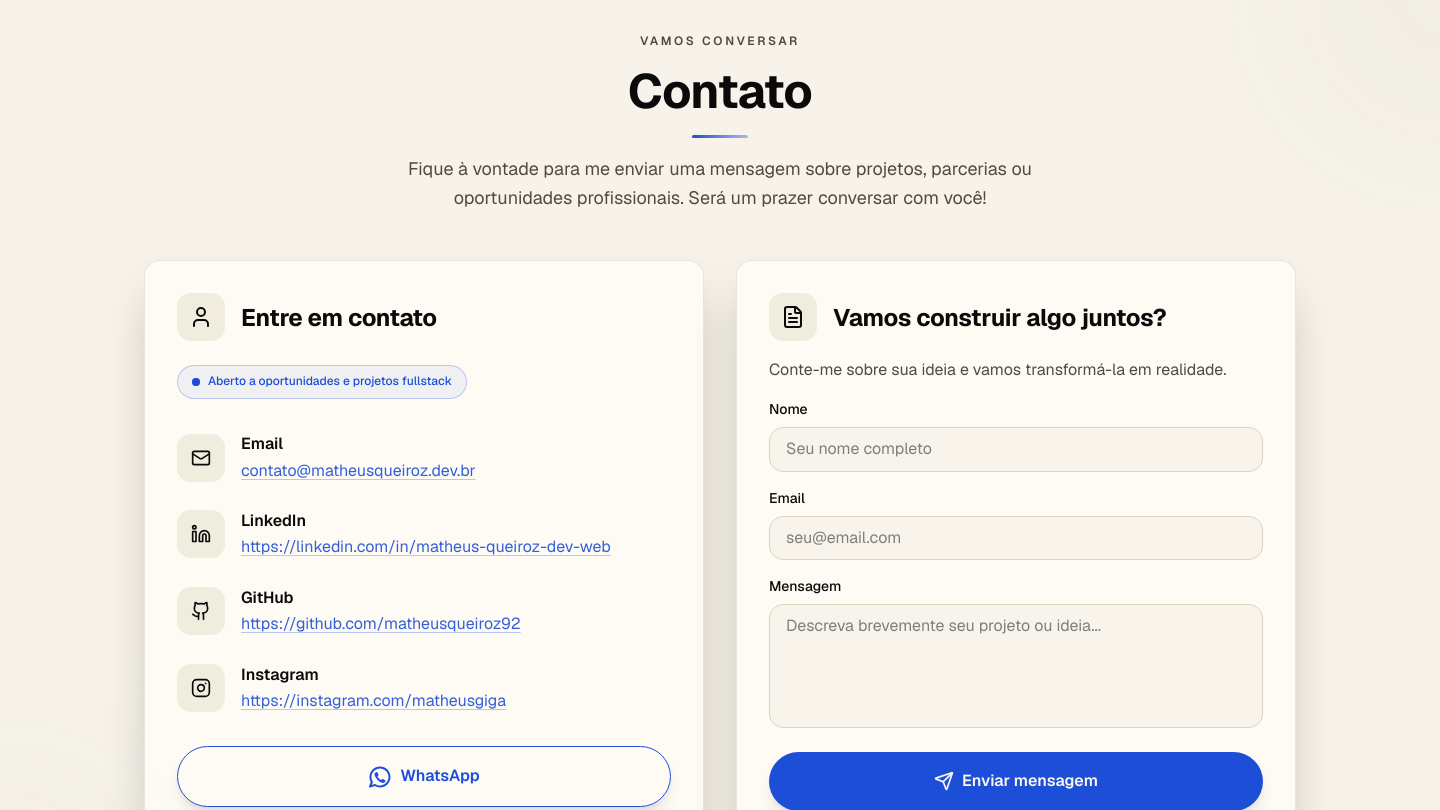
it: ContactSection › submits the form and shows success message
Type "Matheus Queiroz" into the field labelled "Nome" at (1016, 450), box x1=769 y1=428 x2=1263 y2=472
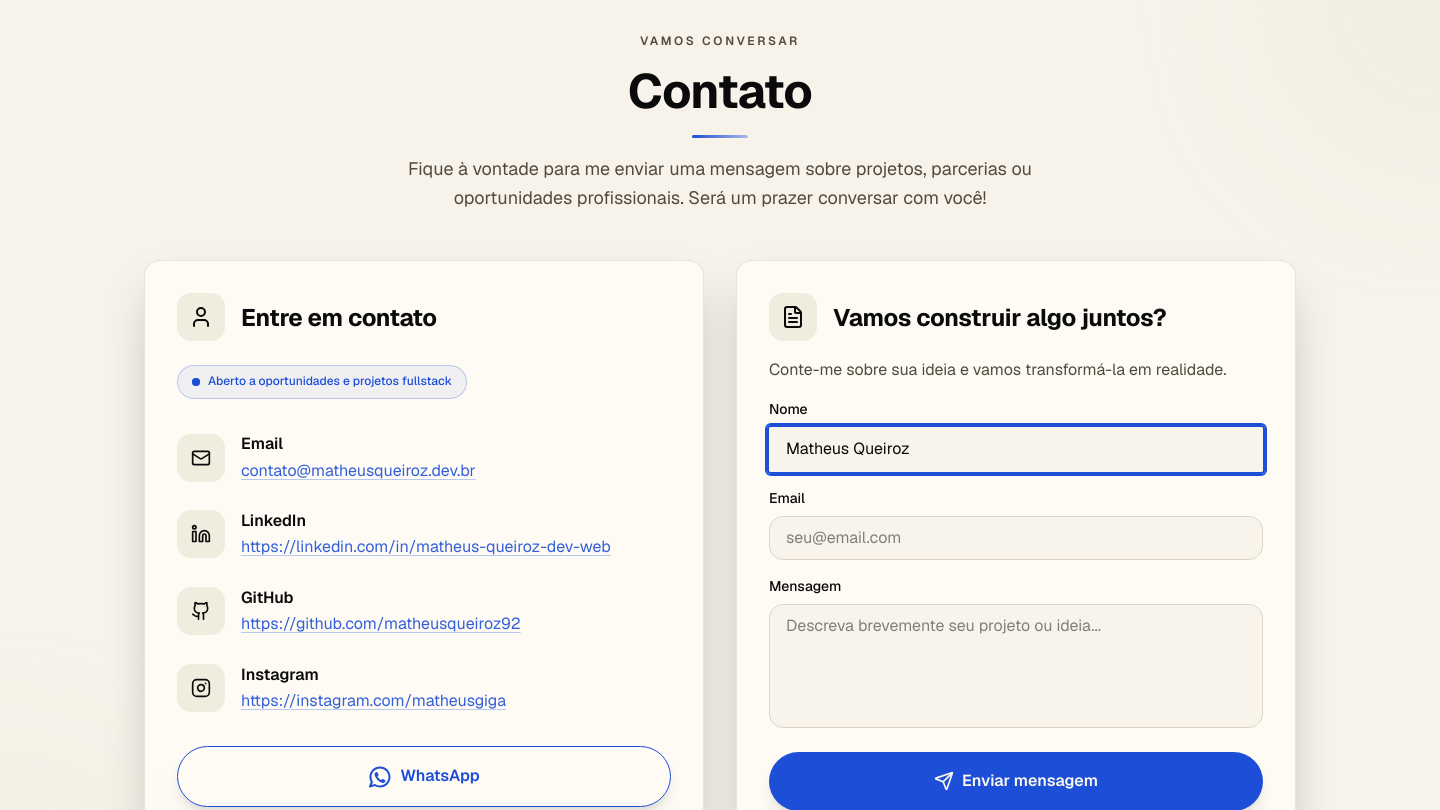
Type "contato@example.com" into the field labelled "Email" at (1016, 538), box x1=769 y1=516 x2=1263 y2=560
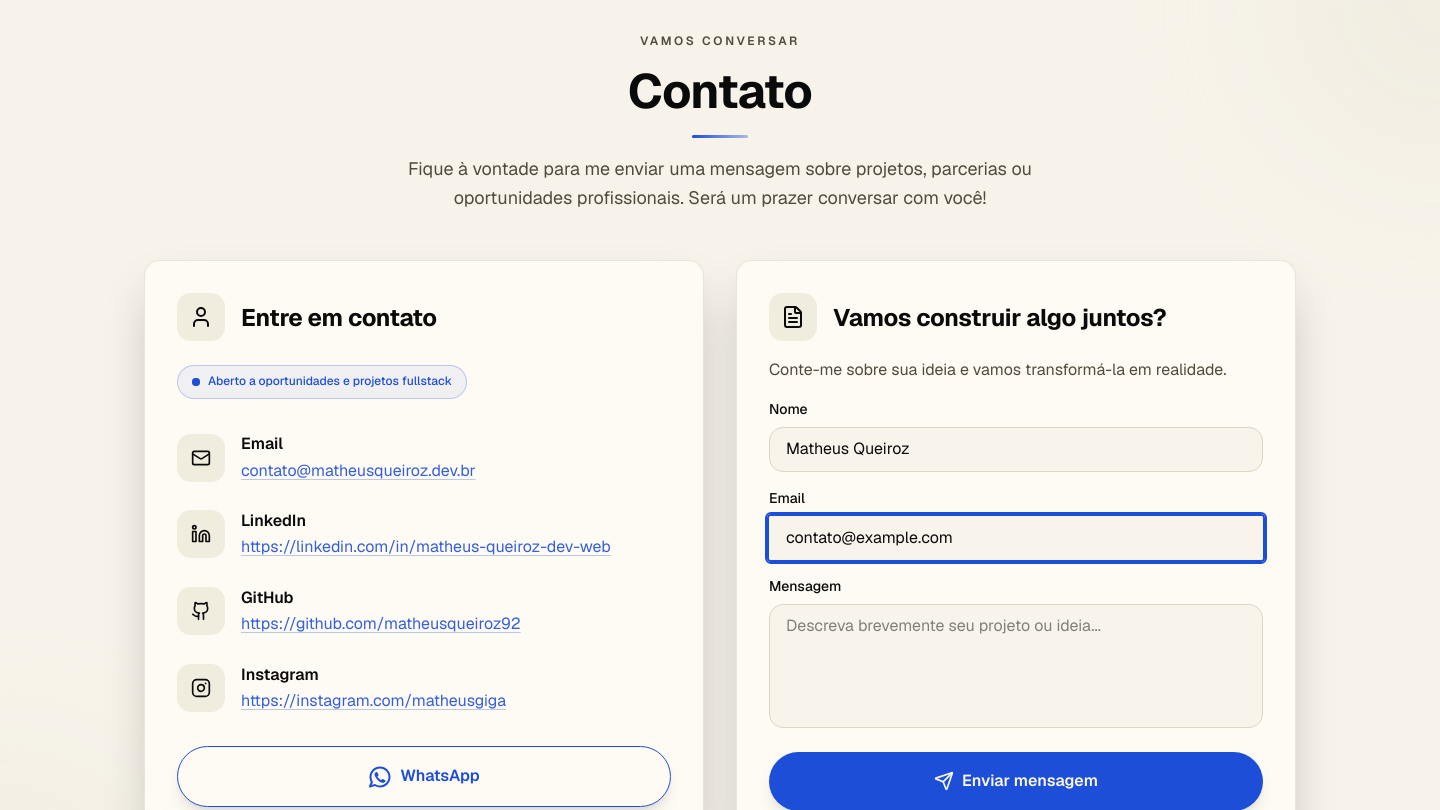
Type "Gostaria de conversar sobre uma oportunidade fullstack." into the text box labelled "Mensagem" at (1016, 666), box x1=769 y1=604 x2=1263 y2=728
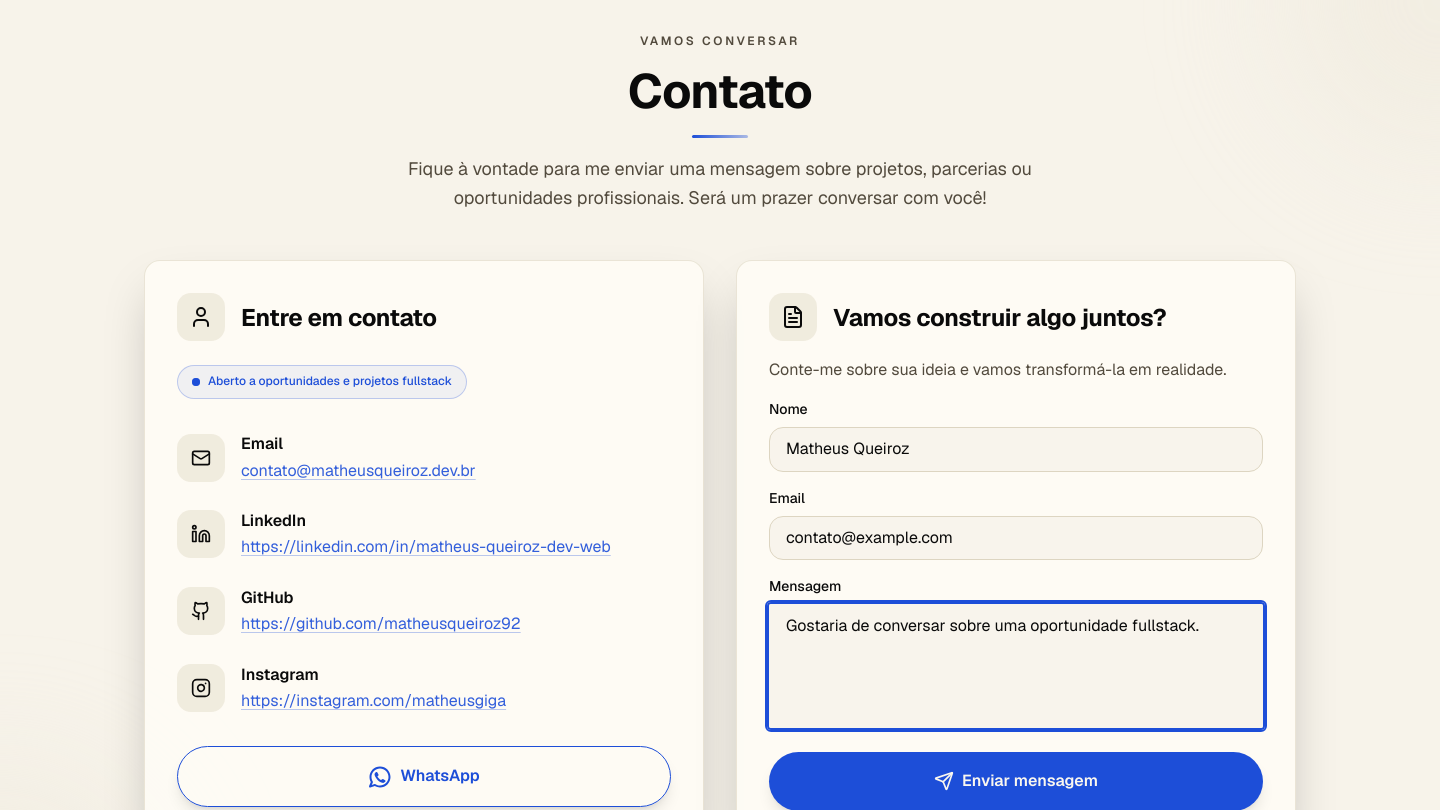
Click the button "Enviar mensagem" at (1016, 781), box x1=769 y1=752 x2=1263 y2=809
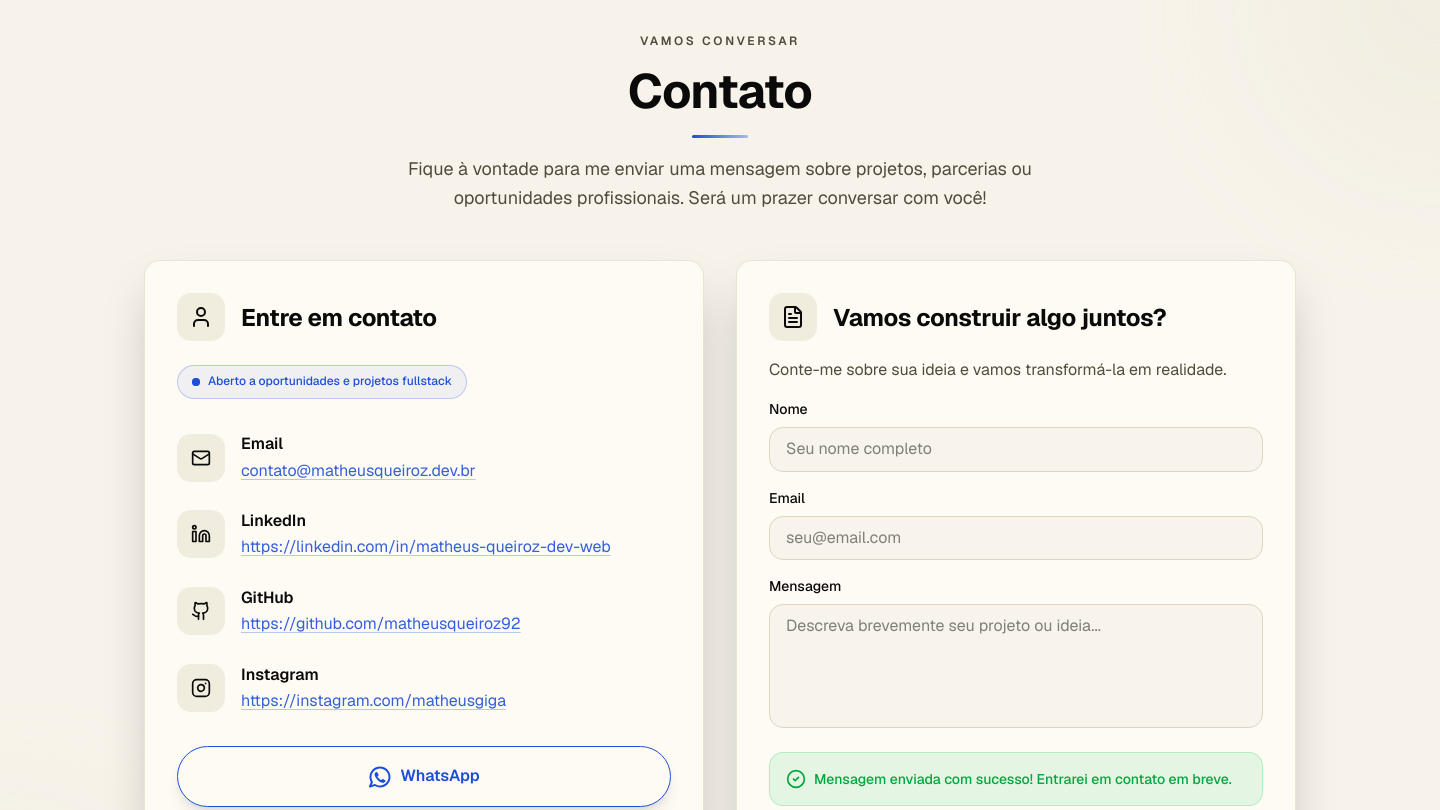
Expected: the text "Mensagem enviada com sucesso! Entrarei em contato em breve." is shown, x1=814 y1=769 x2=1232 y2=789
